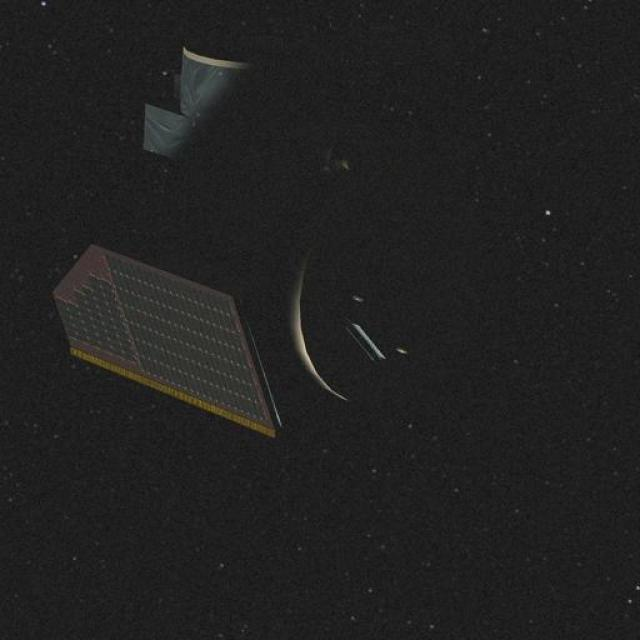cheops: (52, 38, 463, 444)
